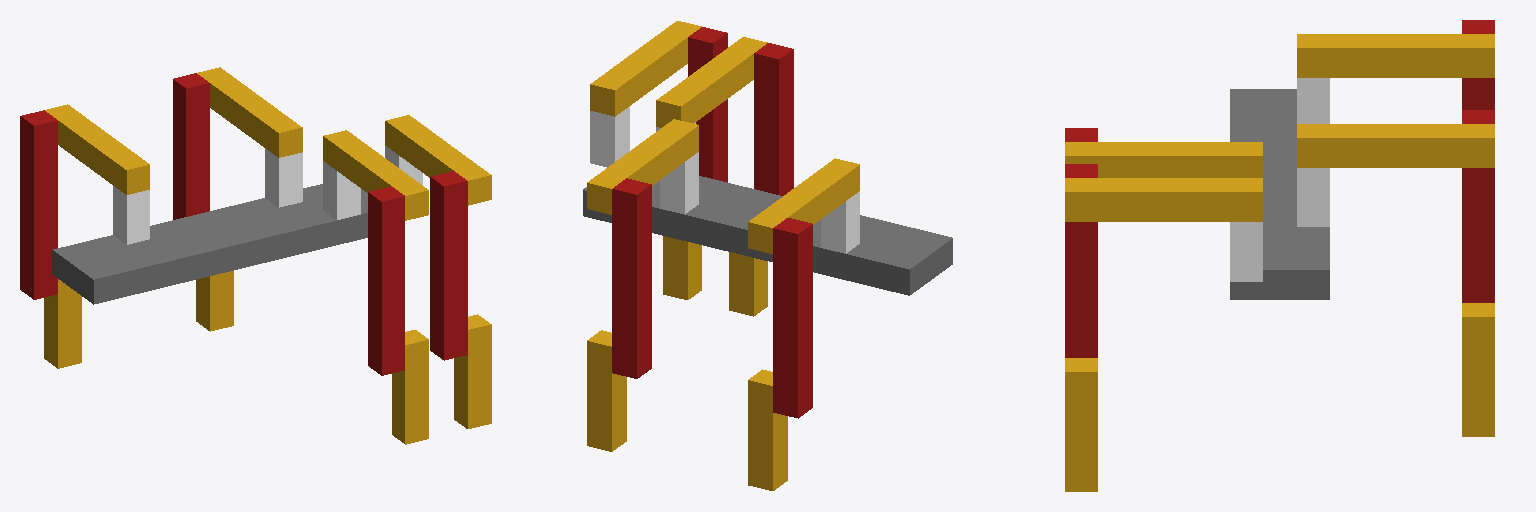
The robot description file, URDF, robot "v0":
<?xml version="1.0" encoding="utf-8"?>
<!-- =================================================================================== -->
<!-- |    This document was autogenerated by xacro from ../robots/v0variants/xacros/v0_4l_25.xacro | -->
<!-- |    EDITING THIS FILE BY HAND IS NOT RECOMMENDED                                 | -->
<!-- =================================================================================== -->
<robot name="v0">
  <material name="grey">
    <color rgba="0.5 0.5 0.5 1"/>
  </material>
  <material name="white">
    <color rgba="1 1 1 1"/>
  </material>
  <material name="yellow">
    <color rgba="0.91 0.7 0.14 1"/>
  </material>
  <material name="red">
    <color rgba="0.71 0.14 0.14 1"/>
  </material>
  <link name="body">
    <visual>
      <geometry>
        <box size="1.3 0.3 0.1"/>
      </geometry>
      <material name="grey"/>
      <origin rpy="0 0 0" xyz="0 0 0.7"/>
    </visual>
    <collision>
      <geometry>
        <box size="1.3 0.3 0.1"/>
      </geometry>
      <origin rpy="0 0 0" xyz="0 0 0.7"/>
    </collision>
    <inertial>
      <mass value="99.84"/>
      <inertia ixx="0.832" ixy="0.0" ixz="0.0" iyy="14.144" iyz="0.0" izz="14.8096"/>
    </inertial>
  </link>
  <link name="l1_segment_1">
    <visual>
      <geometry>
        <box size="0.1 0.1 0.2"/>
      </geometry>
      <material name="white"/>
      <origin rpy="0 0 0" xyz="0 0 0.1"/>
    </visual>
    <collision>
      <geometry>
        <box size="0.1 0.1 0.2"/>
      </geometry>
      <origin rpy="0 0 0" xyz="0 0 0.1"/>
    </collision>
    <inertial>
      <mass value="5.12"/>
      <inertia ixx="0.0213333333333" ixy="0.0" ixz="0.0" iyy="0.0213333333333" iyz="0.0" izz="0.00853333333333"/>
    </inertial>
  </link>
  <joint name="l1_base_to_joint_1" type="fixed">
    <parent link="body"/>
    <child link="l1_segment_1"/>
    <origin rpy="0 0 0" xyz="-0.34582289314208525 0.1 0.75"/>
  </joint>
  <link name="l1_segment_2_HIP">
    <visual>
      <geometry>
        <box size="0.1 0.6 0.1"/>
      </geometry>
      <material name="yellow"/>
      <origin rpy="0 0 0" xyz="0 0.25 0"/>
    </visual>
    <collision>
      <geometry>
        <box size="0.1 0.6 0.1"/>
      </geometry>
      <origin rpy="0 0 0" xyz="0 0.25 0"/>
    </collision>
    <inertial>
      <mass value="15.36"/>
      <inertia ixx="0.4736" ixy="0.0" ixz="0.0" iyy="0.0256" iyz="0.0" izz="0.4736"/>
    </inertial>
  </link>
  <joint name="l1_joint_1_to_2" type="revolute">
    <parent link="l1_segment_1"/>
    <child link="l1_segment_2_HIP"/>
    <origin rpy="0 0 0" xyz="0 0 0.25"/>
    <axis xyz="0.0 0.0 1.0"/>
    <limit effort="2048" lower="-1.2" upper="1.2" velocity="20"/>
  </joint>
  <link name="l1_segment_3_THIGH">
    <visual>
      <geometry>
        <box size="0.1 0.1 0.7"/>
      </geometry>
      <material name="red"/>
      <origin rpy="0 0 0" xyz="0 0 -0.3"/>
    </visual>
    <collision>
      <geometry>
        <box size="0.1 0.1 0.7"/>
      </geometry>
      <origin rpy="0 0 0" xyz="0 0 -0.3"/>
    </collision>
    <inertial>
      <mass value="17.92"/>
      <inertia ixx="0.746666666667" ixy="0.0" ixz="0.0" iyy="0.746666666667" iyz="0.0" izz="0.0298666666667"/>
    </inertial>
  </link>
  <joint name="l1_joint_2_to_3" type="revolute">
    <parent link="l1_segment_2_HIP"/>
    <child link="l1_segment_3_THIGH"/>
    <origin rpy="0 0 0" xyz="-0.1 0.5 0"/>
    <axis xyz="1.0 0.0 0.0"/>
    <limit effort="2048" lower="-0.2" upper="0.75" velocity="20"/>
  </joint>
  <link name="l1_segment_4_FOOT">
    <visual>
      <geometry>
        <box size="0.1 0.1 0.4"/>
      </geometry>
      <material name="yellow"/>
      <origin rpy="0 0 0" xyz="0 0 -0.2"/>
    </visual>
    <collision>
      <geometry>
        <box size="0.1 0.1 0.4"/>
      </geometry>
      <origin rpy="0 0 0" xyz="0 0 -0.2"/>
    </collision>
    <inertial>
      <mass value="10.24"/>
      <inertia ixx="0.145066666667" ixy="0.0" ixz="0.0" iyy="0.145066666667" iyz="0.0" izz="0.0170666666667"/>
    </inertial>
  </link>
  <joint name="l1_joint_3_to_4_FOOT" type="revolute">
    <parent link="l1_segment_3_THIGH"/>
    <child link="l1_segment_4_FOOT"/>
    <origin rpy="0 0 0" xyz="0.1 0 -0.55"/>
    <axis xyz="1.0 0.0 0.0"/>
    <limit effort="2048" lower="-0.2" upper="0.5" velocity="20"/>
  </joint>
  <link name="r2_segment_1">
    <visual>
      <geometry>
        <box size="0.1 0.1 0.2"/>
      </geometry>
      <material name="white"/>
      <origin rpy="0 0 0" xyz="0 0 0.1"/>
    </visual>
    <collision>
      <geometry>
        <box size="0.1 0.1 0.2"/>
      </geometry>
      <origin rpy="0 0 0" xyz="0 0 0.1"/>
    </collision>
    <inertial>
      <mass value="5.12"/>
      <inertia ixx="0.0213333333333" ixy="0.0" ixz="0.0" iyy="0.0213333333333" iyz="0.0" izz="0.00853333333333"/>
    </inertial>
  </link>
  <joint name="r2_base_to_joint_1" type="fixed">
    <parent link="body"/>
    <child link="r2_segment_1"/>
    <origin rpy="0 0 0" xyz="0.4233485805129944 -0.1 0.75"/>
  </joint>
  <link name="r2_segment_2_HIP">
    <visual>
      <geometry>
        <box size="0.1 0.6 0.1"/>
      </geometry>
      <material name="yellow"/>
      <origin rpy="0 0 0" xyz="0 -0.25 0"/>
    </visual>
    <collision>
      <geometry>
        <box size="0.1 0.6 0.1"/>
      </geometry>
      <origin rpy="0 0 0" xyz="0 -0.25 0"/>
    </collision>
    <inertial>
      <mass value="15.36"/>
      <inertia ixx="0.4736" ixy="0.0" ixz="0.0" iyy="0.0256" iyz="0.0" izz="0.4736"/>
    </inertial>
  </link>
  <joint name="r2_joint_1_to_2" type="revolute">
    <parent link="r2_segment_1"/>
    <child link="r2_segment_2_HIP"/>
    <origin rpy="0 0 0" xyz="0 0 0.25"/>
    <axis xyz="0.0 0.0 1.0"/>
    <limit effort="2048" lower="-1.2" upper="1.2" velocity="20"/>
  </joint>
  <link name="r2_segment_3_THIGH">
    <visual>
      <geometry>
        <box size="0.1 0.1 0.7"/>
      </geometry>
      <material name="red"/>
      <origin rpy="0 0 0" xyz="0 0 -0.3"/>
    </visual>
    <collision>
      <geometry>
        <box size="0.1 0.1 0.7"/>
      </geometry>
      <origin rpy="0 0 0" xyz="0 0 -0.3"/>
    </collision>
    <inertial>
      <mass value="17.92"/>
      <inertia ixx="0.746666666667" ixy="0.0" ixz="0.0" iyy="0.746666666667" iyz="0.0" izz="0.0298666666667"/>
    </inertial>
  </link>
  <joint name="r2_joint_2_to_3" type="revolute">
    <parent link="r2_segment_2_HIP"/>
    <child link="r2_segment_3_THIGH"/>
    <origin rpy="0 0 0" xyz="-0.1 -0.5 0"/>
    <axis xyz="1.0 0.0 0.0"/>
    <limit effort="2048" lower="-0.75" upper="0.2" velocity="20"/>
  </joint>
  <link name="r2_segment_4_FOOT">
    <visual>
      <geometry>
        <box size="0.1 0.1 0.4"/>
      </geometry>
      <material name="yellow"/>
      <origin rpy="0 0 0" xyz="0 0 -0.2"/>
    </visual>
    <collision>
      <geometry>
        <box size="0.1 0.1 0.4"/>
      </geometry>
      <origin rpy="0 0 0" xyz="0 0 -0.2"/>
    </collision>
    <inertial>
      <mass value="10.24"/>
      <inertia ixx="0.145066666667" ixy="0.0" ixz="0.0" iyy="0.145066666667" iyz="0.0" izz="0.0170666666667"/>
    </inertial>
  </link>
  <joint name="r2_joint_3_to_4_FOOT" type="revolute">
    <parent link="r2_segment_3_THIGH"/>
    <child link="r2_segment_4_FOOT"/>
    <origin rpy="0 0 0" xyz="0.1 0 -0.55"/>
    <axis xyz="1.0 0.0 0.0"/>
    <limit effort="2048" lower="-0.5" upper="0.2" velocity="20"/>
  </joint>
  <link name="l3_segment_1">
    <visual>
      <geometry>
        <box size="0.1 0.1 0.2"/>
      </geometry>
      <material name="white"/>
      <origin rpy="0 0 0" xyz="0 0 0.1"/>
    </visual>
    <collision>
      <geometry>
        <box size="0.1 0.1 0.2"/>
      </geometry>
      <origin rpy="0 0 0" xyz="0 0 0.1"/>
    </collision>
    <inertial>
      <mass value="5.12"/>
      <inertia ixx="0.0213333333333" ixy="0.0" ixz="0.0" iyy="0.0213333333333" iyz="0.0" izz="0.00853333333333"/>
    </inertial>
  </link>
  <joint name="l3_base_to_joint_1" type="fixed">
    <parent link="body"/>
    <child link="l3_segment_1"/>
    <origin rpy="0 0 0" xyz="0.29453543674582505 0.1 0.75"/>
  </joint>
  <link name="l3_segment_2_HIP">
    <visual>
      <geometry>
        <box size="0.1 0.6 0.1"/>
      </geometry>
      <material name="yellow"/>
      <origin rpy="0 0 0" xyz="0 0.25 0"/>
    </visual>
    <collision>
      <geometry>
        <box size="0.1 0.6 0.1"/>
      </geometry>
      <origin rpy="0 0 0" xyz="0 0.25 0"/>
    </collision>
    <inertial>
      <mass value="15.36"/>
      <inertia ixx="0.4736" ixy="0.0" ixz="0.0" iyy="0.0256" iyz="0.0" izz="0.4736"/>
    </inertial>
  </link>
  <joint name="l3_joint_1_to_2" type="revolute">
    <parent link="l3_segment_1"/>
    <child link="l3_segment_2_HIP"/>
    <origin rpy="0 0 0" xyz="0 0 0.25"/>
    <axis xyz="0.0 0.0 1.0"/>
    <limit effort="2048" lower="-1.2" upper="1.2" velocity="20"/>
  </joint>
  <link name="l3_segment_3_THIGH">
    <visual>
      <geometry>
        <box size="0.1 0.1 0.7"/>
      </geometry>
      <material name="red"/>
      <origin rpy="0 0 0" xyz="0 0 -0.3"/>
    </visual>
    <collision>
      <geometry>
        <box size="0.1 0.1 0.7"/>
      </geometry>
      <origin rpy="0 0 0" xyz="0 0 -0.3"/>
    </collision>
    <inertial>
      <mass value="17.92"/>
      <inertia ixx="0.746666666667" ixy="0.0" ixz="0.0" iyy="0.746666666667" iyz="0.0" izz="0.0298666666667"/>
    </inertial>
  </link>
  <joint name="l3_joint_2_to_3" type="revolute">
    <parent link="l3_segment_2_HIP"/>
    <child link="l3_segment_3_THIGH"/>
    <origin rpy="0 0 0" xyz="-0.1 0.5 0"/>
    <axis xyz="1.0 0.0 0.0"/>
    <limit effort="2048" lower="-0.2" upper="0.75" velocity="20"/>
  </joint>
  <link name="l3_segment_4_FOOT">
    <visual>
      <geometry>
        <box size="0.1 0.1 0.4"/>
      </geometry>
      <material name="yellow"/>
      <origin rpy="0 0 0" xyz="0 0 -0.2"/>
    </visual>
    <collision>
      <geometry>
        <box size="0.1 0.1 0.4"/>
      </geometry>
      <origin rpy="0 0 0" xyz="0 0 -0.2"/>
    </collision>
    <inertial>
      <mass value="10.24"/>
      <inertia ixx="0.145066666667" ixy="0.0" ixz="0.0" iyy="0.145066666667" iyz="0.0" izz="0.0170666666667"/>
    </inertial>
  </link>
  <joint name="l3_joint_3_to_4_FOOT" type="revolute">
    <parent link="l3_segment_3_THIGH"/>
    <child link="l3_segment_4_FOOT"/>
    <origin rpy="0 0 0" xyz="0.1 0 -0.55"/>
    <axis xyz="1.0 0.0 0.0"/>
    <limit effort="2048" lower="-0.2" upper="0.5" velocity="20"/>
  </joint>
  <link name="r4_segment_1">
    <visual>
      <geometry>
        <box size="0.1 0.1 0.2"/>
      </geometry>
      <material name="white"/>
      <origin rpy="0 0 0" xyz="0 0 0.1"/>
    </visual>
    <collision>
      <geometry>
        <box size="0.1 0.1 0.2"/>
      </geometry>
      <origin rpy="0 0 0" xyz="0 0 0.1"/>
    </collision>
    <inertial>
      <mass value="5.12"/>
      <inertia ixx="0.0213333333333" ixy="0.0" ixz="0.0" iyy="0.0213333333333" iyz="0.0" izz="0.00853333333333"/>
    </inertial>
  </link>
  <joint name="r4_base_to_joint_1" type="fixed">
    <parent link="body"/>
    <child link="r4_segment_1"/>
    <origin rpy="0 0 0" xyz="0.6857385962192182 -0.1 0.75"/>
  </joint>
  <link name="r4_segment_2_HIP">
    <visual>
      <geometry>
        <box size="0.1 0.6 0.1"/>
      </geometry>
      <material name="yellow"/>
      <origin rpy="0 0 0" xyz="0 -0.25 0"/>
    </visual>
    <collision>
      <geometry>
        <box size="0.1 0.6 0.1"/>
      </geometry>
      <origin rpy="0 0 0" xyz="0 -0.25 0"/>
    </collision>
    <inertial>
      <mass value="15.36"/>
      <inertia ixx="0.4736" ixy="0.0" ixz="0.0" iyy="0.0256" iyz="0.0" izz="0.4736"/>
    </inertial>
  </link>
  <joint name="r4_joint_1_to_2" type="revolute">
    <parent link="r4_segment_1"/>
    <child link="r4_segment_2_HIP"/>
    <origin rpy="0 0 0" xyz="0 0 0.25"/>
    <axis xyz="0.0 0.0 1.0"/>
    <limit effort="2048" lower="-1.2" upper="1.2" velocity="20"/>
  </joint>
  <link name="r4_segment_3_THIGH">
    <visual>
      <geometry>
        <box size="0.1 0.1 0.7"/>
      </geometry>
      <material name="red"/>
      <origin rpy="0 0 0" xyz="0 0 -0.3"/>
    </visual>
    <collision>
      <geometry>
        <box size="0.1 0.1 0.7"/>
      </geometry>
      <origin rpy="0 0 0" xyz="0 0 -0.3"/>
    </collision>
    <inertial>
      <mass value="17.92"/>
      <inertia ixx="0.746666666667" ixy="0.0" ixz="0.0" iyy="0.746666666667" iyz="0.0" izz="0.0298666666667"/>
    </inertial>
  </link>
  <joint name="r4_joint_2_to_3" type="revolute">
    <parent link="r4_segment_2_HIP"/>
    <child link="r4_segment_3_THIGH"/>
    <origin rpy="0 0 0" xyz="-0.1 -0.5 0"/>
    <axis xyz="1.0 0.0 0.0"/>
    <limit effort="2048" lower="-0.75" upper="0.2" velocity="20"/>
  </joint>
  <link name="r4_segment_4_FOOT">
    <visual>
      <geometry>
        <box size="0.1 0.1 0.4"/>
      </geometry>
      <material name="yellow"/>
      <origin rpy="0 0 0" xyz="0 0 -0.2"/>
    </visual>
    <collision>
      <geometry>
        <box size="0.1 0.1 0.4"/>
      </geometry>
      <origin rpy="0 0 0" xyz="0 0 -0.2"/>
    </collision>
    <inertial>
      <mass value="10.24"/>
      <inertia ixx="0.145066666667" ixy="0.0" ixz="0.0" iyy="0.145066666667" iyz="0.0" izz="0.0170666666667"/>
    </inertial>
  </link>
  <joint name="r4_joint_3_to_4_FOOT" type="revolute">
    <parent link="r4_segment_3_THIGH"/>
    <child link="r4_segment_4_FOOT"/>
    <origin rpy="0 0 0" xyz="0.1 0 -0.55"/>
    <axis xyz="1.0 0.0 0.0"/>
    <limit effort="2048" lower="-0.5" upper="0.2" velocity="20"/>
  </joint>
</robot>

--- Facts derived from the render (not from the file) ---
Views: 3 orthographic renders of the robot side by side, from view 1: azimuth 30°, elevation 25°; view 2: azimuth 150°, elevation 25°; view 3: azimuth 270°, elevation 25°.
Model v0 with 17 links and 16 joints (12 revolute, 4 fixed), rooted at body, posed all joints at 0.
Links seen in each view (by area): view 1: body, r4_segment_3_THIGH, l1_segment_3_THIGH, r2_segment_3_THIGH, l3_segment_3_THIGH, l3_segment_2_HIP, l1_segment_2_HIP, r4_segment_2_HIP, r2_segment_2_HIP, r4_segment_4_FOOT, r2_segment_4_FOOT, l1_segment_4_FOOT (+4 smaller); view 2: body, l1_segment_3_THIGH, l3_segment_3_THIGH, r2_segment_3_THIGH, r4_segment_2_HIP, r2_segment_2_HIP, l3_segment_2_HIP, l1_segment_2_HIP, l3_segment_4_FOOT, l1_segment_4_FOOT, r4_segment_3_THIGH, r2_segment_4_FOOT (+4 smaller); view 3: body, l1_segment_2_HIP, l3_segment_2_HIP, r4_segment_2_HIP, r2_segment_2_HIP, r4_segment_3_THIGH, l3_segment_3_THIGH, l3_segment_4_FOOT, r4_segment_4_FOOT, r4_segment_1, l3_segment_1, l1_segment_1 (+1 smaller).
Boxes of the visible links, <box> form: body: <box>52,184,367,304</box>; r4_segment_3_THIGH: <box>430,171,467,360</box>; l1_segment_3_THIGH: <box>20,110,57,299</box>; r2_segment_3_THIGH: <box>368,186,404,375</box>; l3_segment_3_THIGH: <box>173,73,209,219</box>; l3_segment_2_HIP: <box>197,67,302,157</box>; l1_segment_2_HIP: <box>45,104,149,194</box>; r4_segment_2_HIP: <box>385,115,491,205</box>; r2_segment_2_HIP: <box>323,130,428,220</box>; r4_segment_4_FOOT: <box>454,314,491,428</box>; r2_segment_4_FOOT: <box>392,330,428,444</box>; l1_segment_4_FOOT: <box>44,279,81,368</box>; body: <box>583,176,952,295</box>; l1_segment_3_THIGH: <box>773,218,812,418</box>; l3_segment_3_THIGH: <box>612,178,651,378</box>; r2_segment_3_THIGH: <box>754,43,793,195</box>; r4_segment_2_HIP: <box>590,21,701,116</box>; r2_segment_2_HIP: <box>656,37,767,127</box>; l3_segment_2_HIP: <box>587,119,698,214</box>; l1_segment_2_HIP: <box>748,158,859,253</box>; l3_segment_4_FOOT: <box>587,330,626,451</box>; l1_segment_4_FOOT: <box>748,369,787,490</box>; r4_segment_3_THIGH: <box>688,27,727,182</box>; r2_segment_4_FOOT: <box>729,252,767,316</box>; body: <box>1230,89,1329,299</box>; l1_segment_2_HIP: <box>1297,34,1494,77</box>; l3_segment_2_HIP: <box>1297,124,1494,167</box>; r4_segment_2_HIP: <box>1065,178,1262,221</box>; r2_segment_2_HIP: <box>1065,142,1262,177</box>; r4_segment_3_THIGH: <box>1065,164,1097,357</box>; l3_segment_3_THIGH: <box>1462,110,1494,302</box>; l3_segment_4_FOOT: <box>1462,303,1494,436</box>; r4_segment_4_FOOT: <box>1065,358,1097,491</box>; r4_segment_1: <box>1230,222,1262,281</box>; l3_segment_1: <box>1297,168,1329,226</box>; l1_segment_1: <box>1297,78,1329,123</box>.
Bounding box of the posed robot: 1.39 × 1.3 × 1 m (x, y, z).
Geometry: primitives only (box / cylinder / sphere), no mesh files.